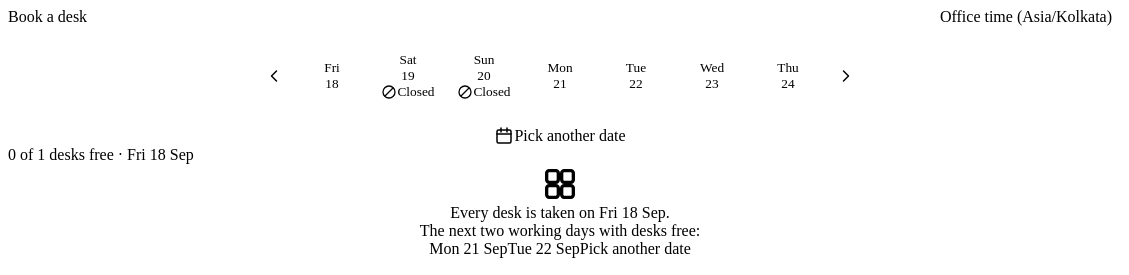
Test: BookADesk — fully booked, offered the next free days (US-009) › choosing a suggested day loads that date directly, with no calendar step (US-009/AC-03)
Click the button "Mon 21 Sep": (468, 249) x1=429 y1=240 x2=507 y2=258
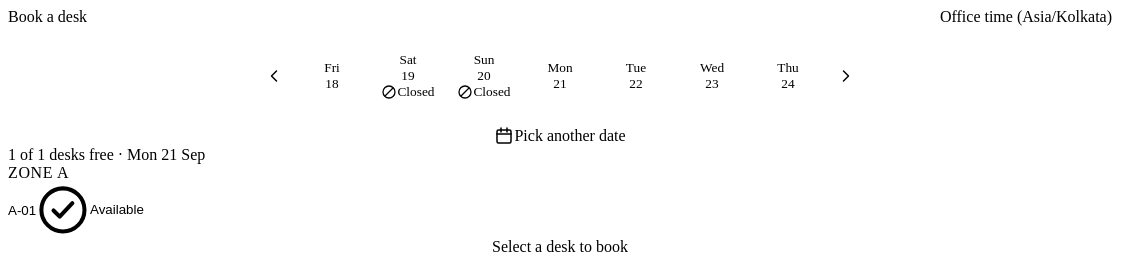
Result: the radio button labelled "A-01 Available" is shown at x1=8 y1=182 x2=1112 y2=238
